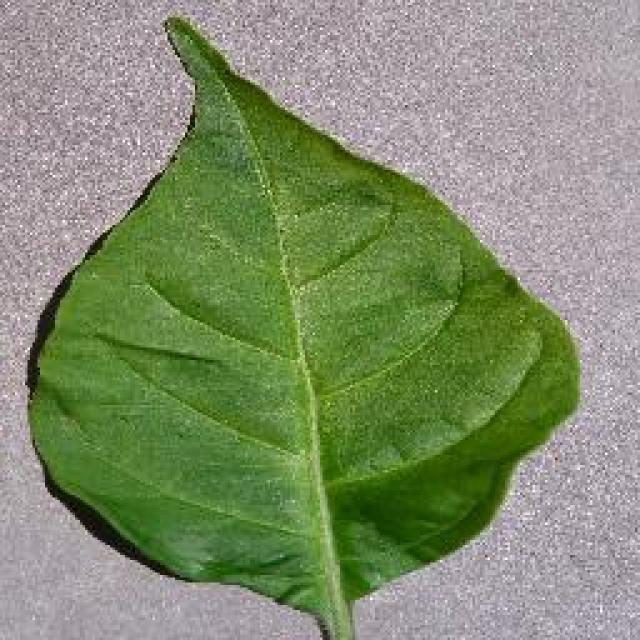Chilli_Healthy: (22, 12, 582, 638)
